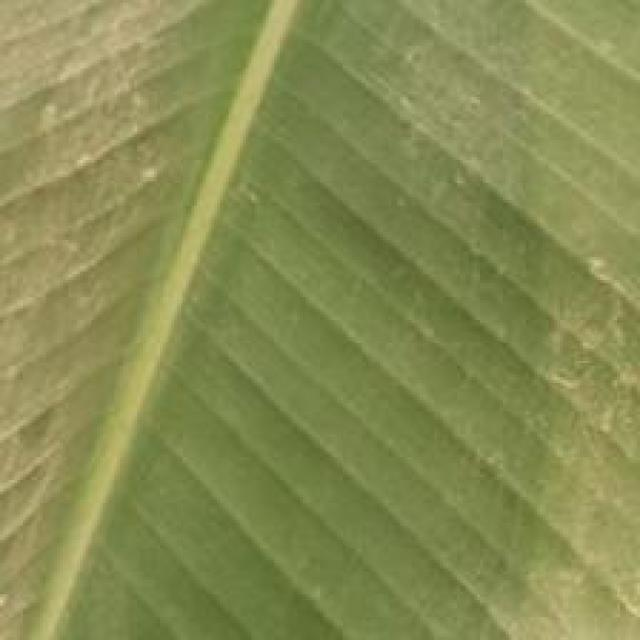Black_leaf_spot: (0, 0, 612, 612)
